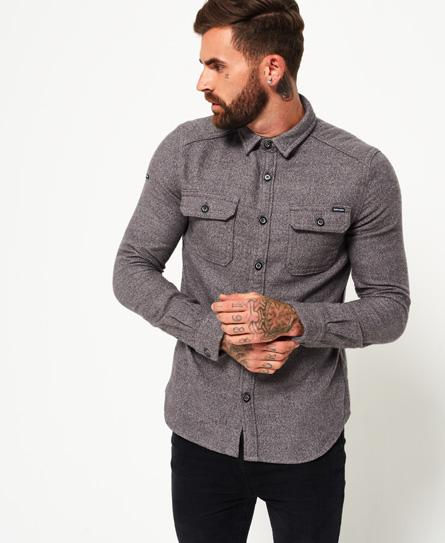teeshirt: (110, 98, 415, 464)
